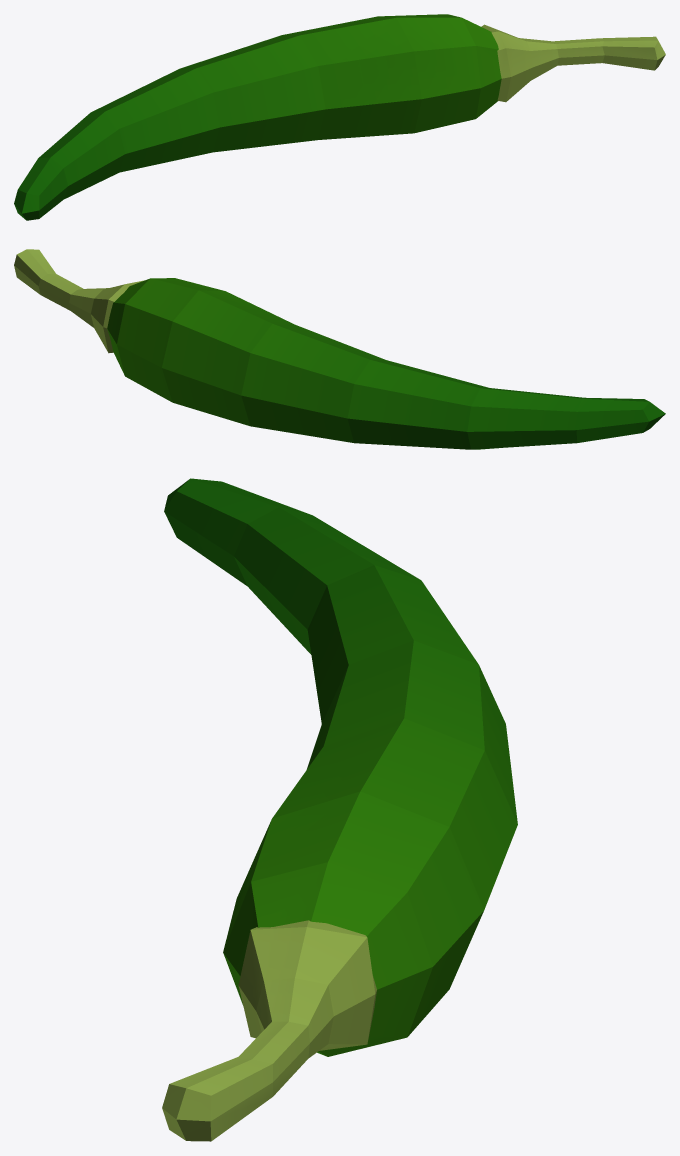
File: chili_pepper_3.glb
3 renders of one model, top to bottom at view 1: azimuth 30°, elevation 25°; view 2: azimuth 150°, elevation 25°; view 3: azimuth 270°, elevation 25°, orthographic. The views are drawn at different scales.
Visible parts, largest first — view 1: chili_pepper_3; view 2: chili_pepper_3; view 3: chili_pepper_3.
Boxes of the visible parts, left/top/right/bottom form: chili_pepper_3: left=14, top=14, right=665, bottom=220; chili_pepper_3: left=14, top=249, right=665, bottom=449; chili_pepper_3: left=162, top=478, right=517, bottom=1141.
Bounding box in the file's own units: 0.1819 × 0.0307 × 0.0437.
1 material, 1 textured.
